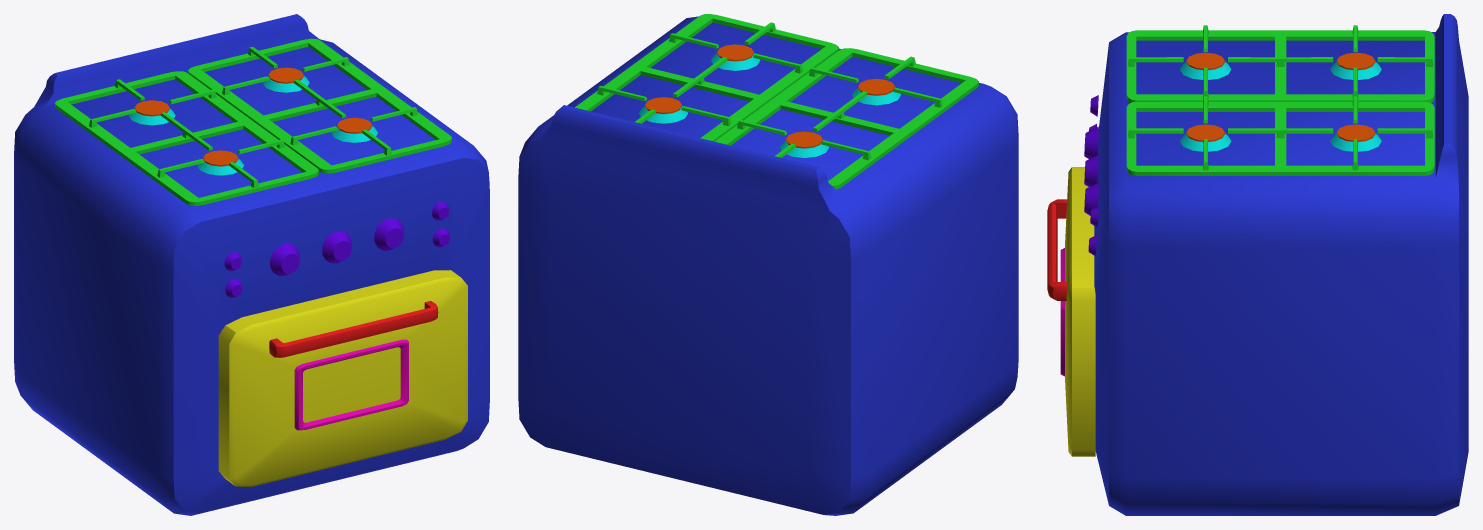
File: horno_low_final.fbx
The picture shows the model from 3 angles, left to right: view 1: azimuth 30°, elevation 25°; view 2: azimuth 150°, elevation 25°; view 3: azimuth 270°, elevation 25°; orthographic projection. The views are drawn at different scales.
Visible parts, largest first — view 1: base_low; view 2: base_low; view 3: base_low.
Part boxes in pixels (x1,y1,x2,y2): base_low: (14, 14, 489, 515); base_low: (518, 14, 1018, 515); base_low: (1047, 14, 1468, 515).
Bounding box in the file's own units: 2.2 × 2.1 × 2.2.
